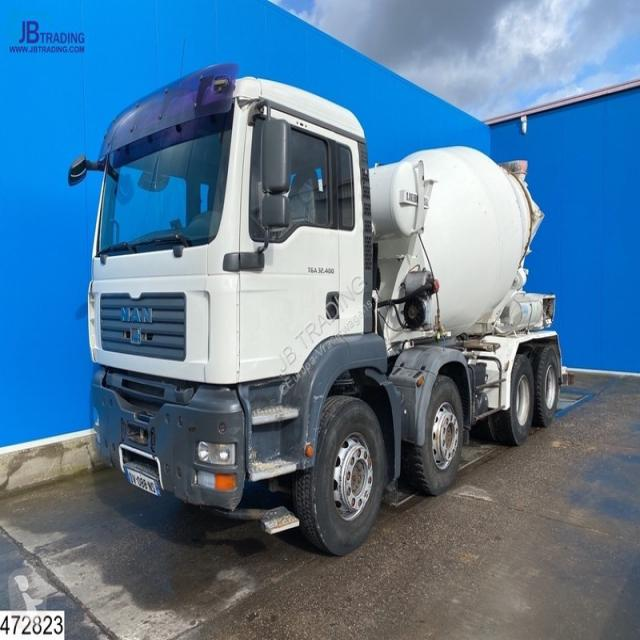Mixer Truck: (88, 62, 566, 556)
